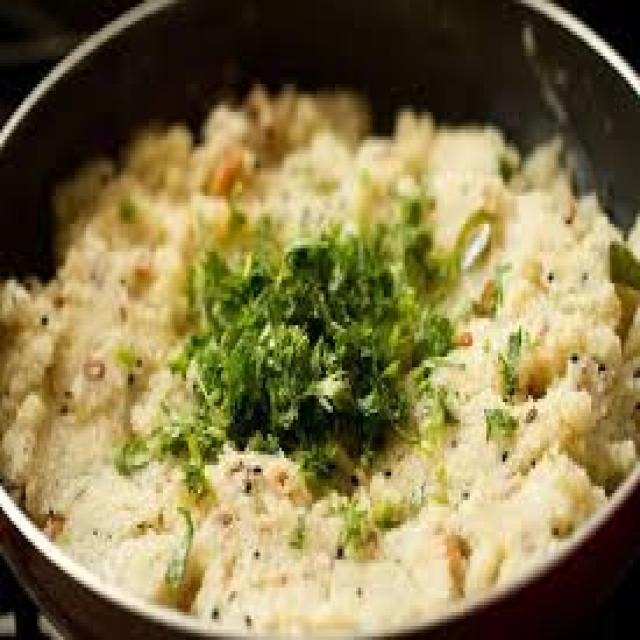UPMA: (0, 84, 635, 630)
